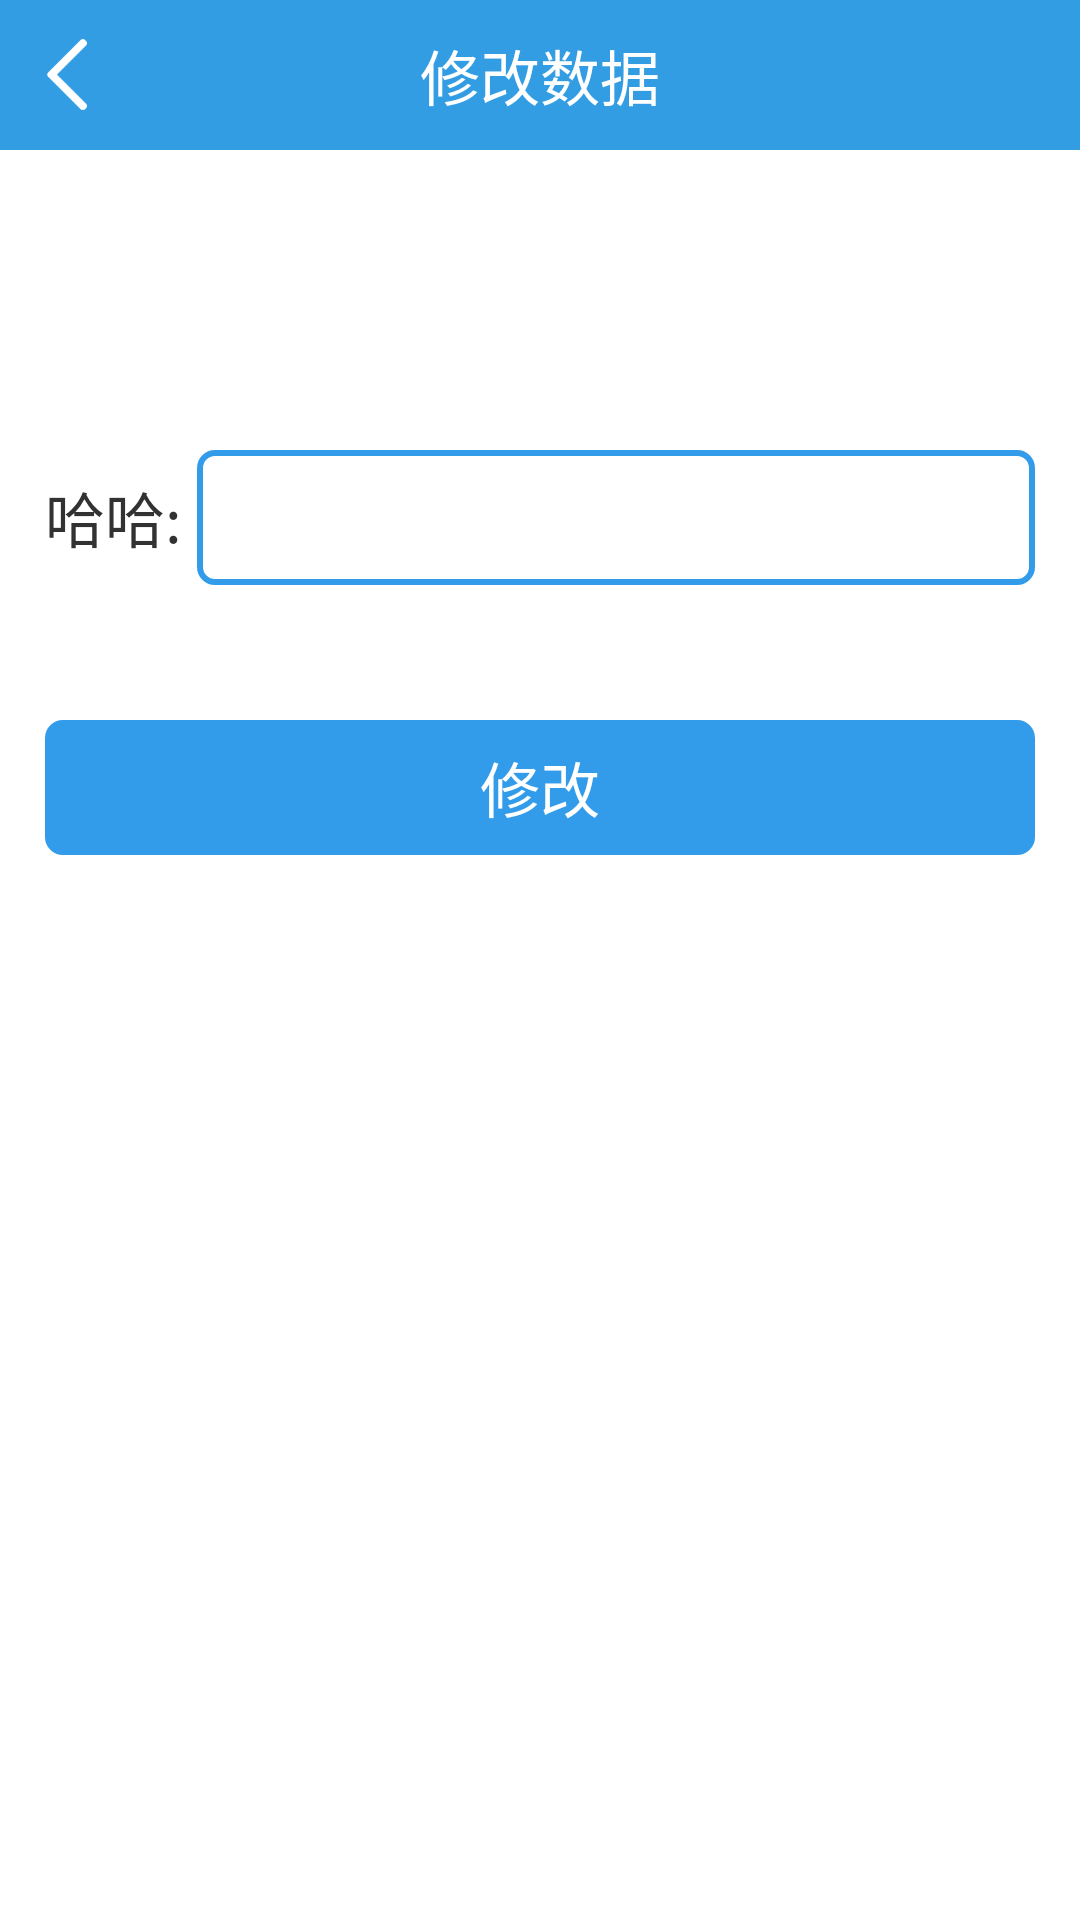

Point at icon controls on the screen. Image size 1080 × 1920, points as point (x, y).
left: point (67, 74)
